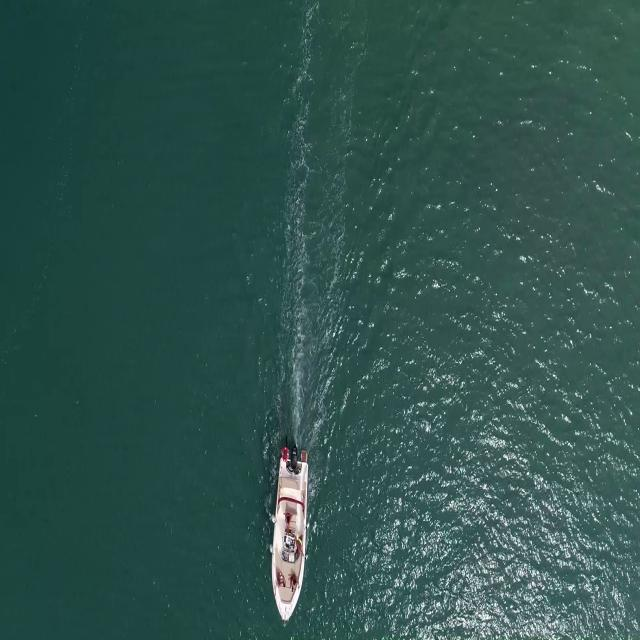boat: (269, 460, 310, 624)
life_buoy: (280, 446, 289, 459)
person: (274, 569, 287, 592), (284, 509, 294, 533), (295, 535, 305, 557), (290, 573, 299, 591)
